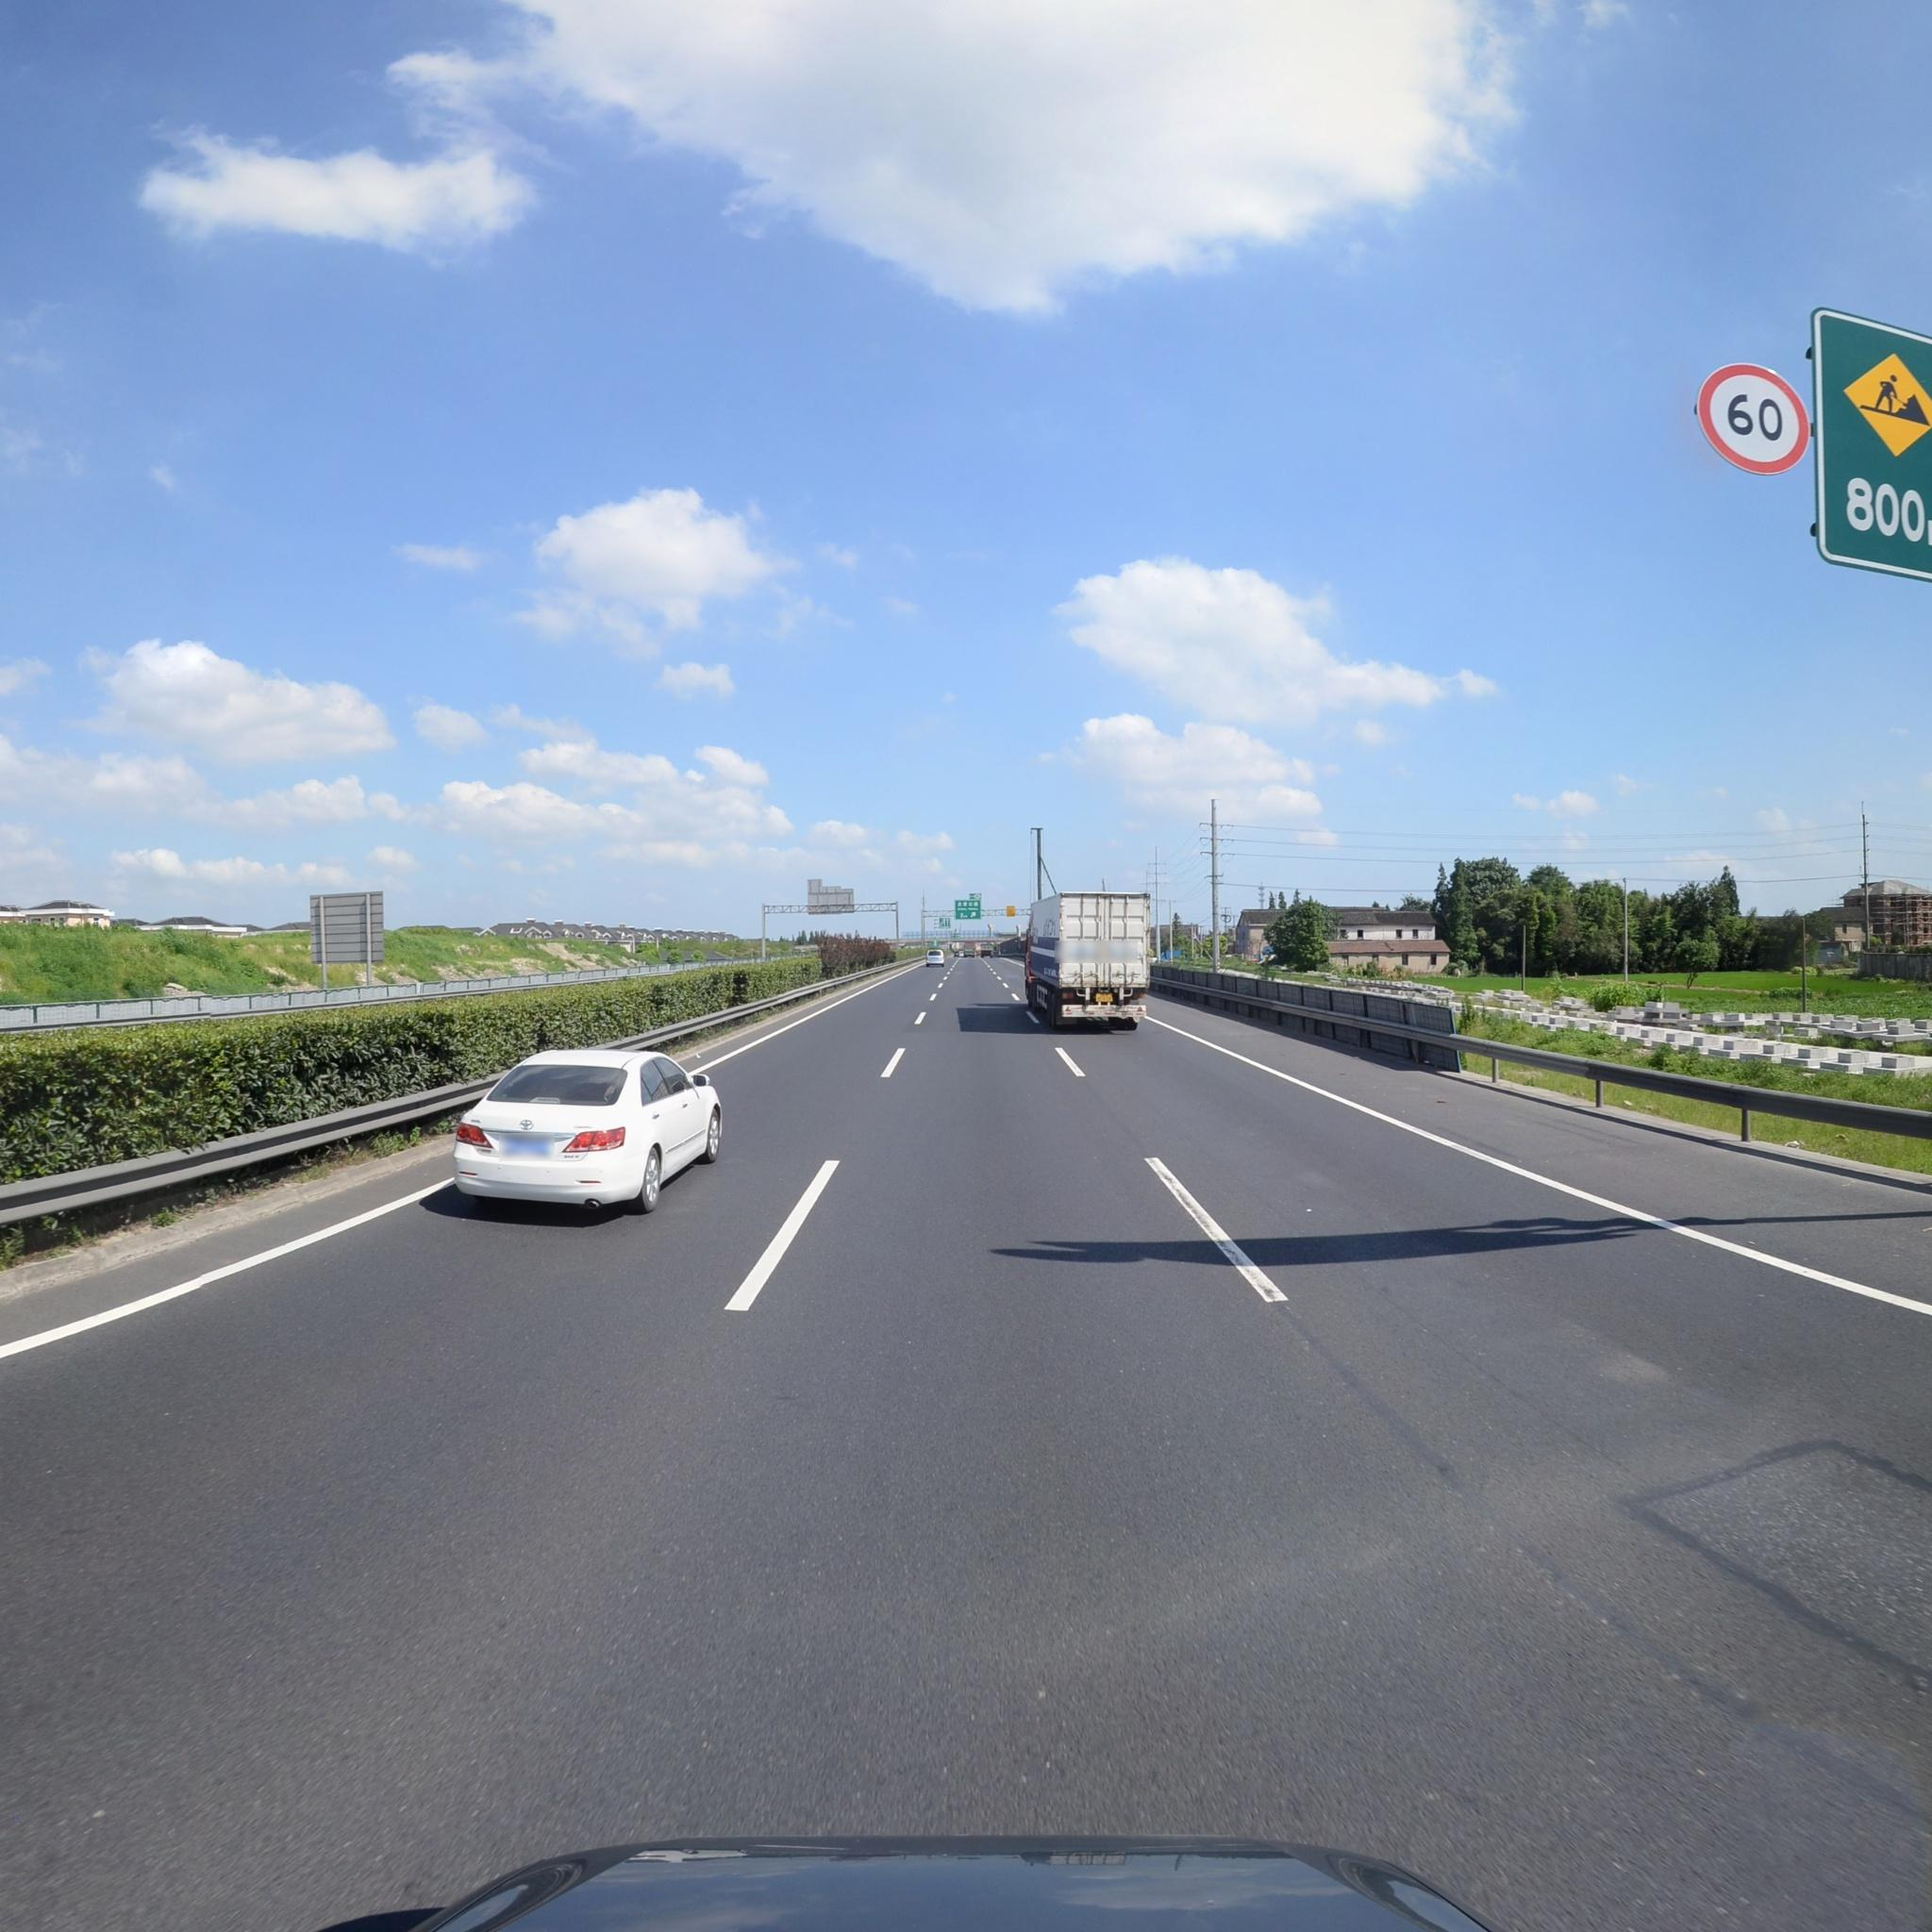pl60: (1693, 366, 1806, 474)
